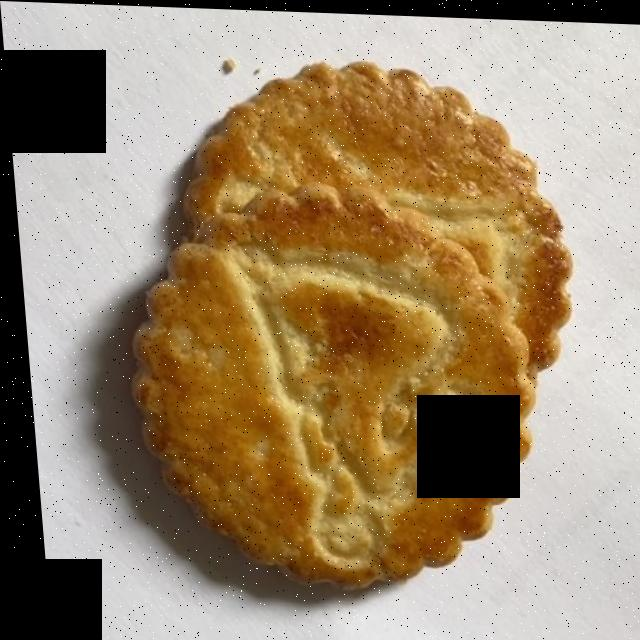biscuit-with-butter: (134, 60, 563, 579)
